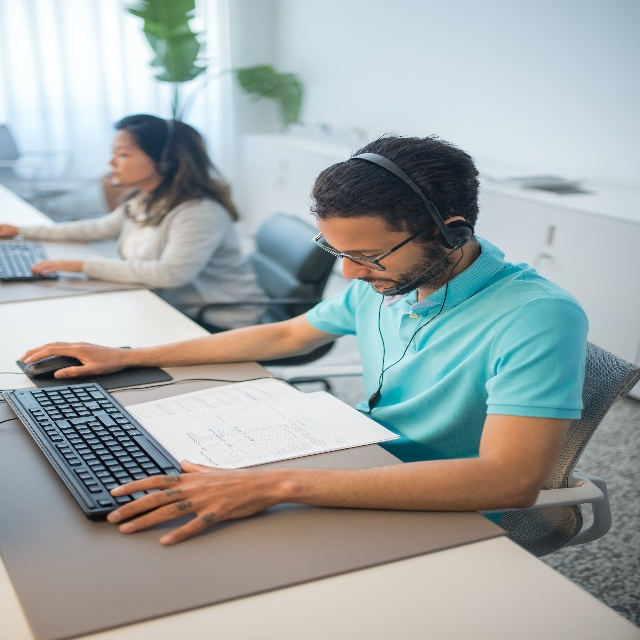Gafas: (313, 230, 385, 273)
Sin_guantes: (108, 458, 281, 546), (21, 341, 137, 369), (32, 259, 76, 274), (0, 218, 18, 243)
